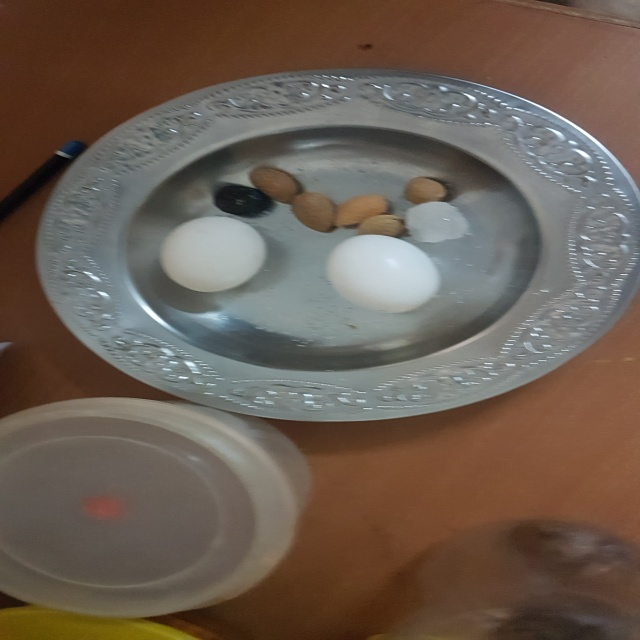eggs: (323, 231, 446, 313), (161, 215, 266, 294)
